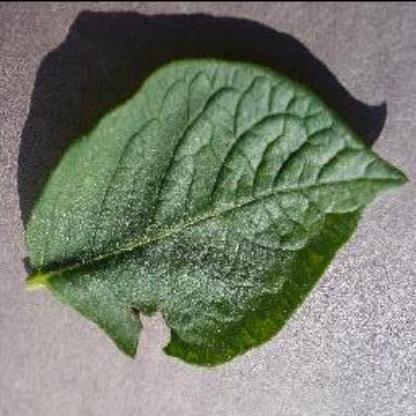Healthy-plant: (19, 51, 414, 370)
